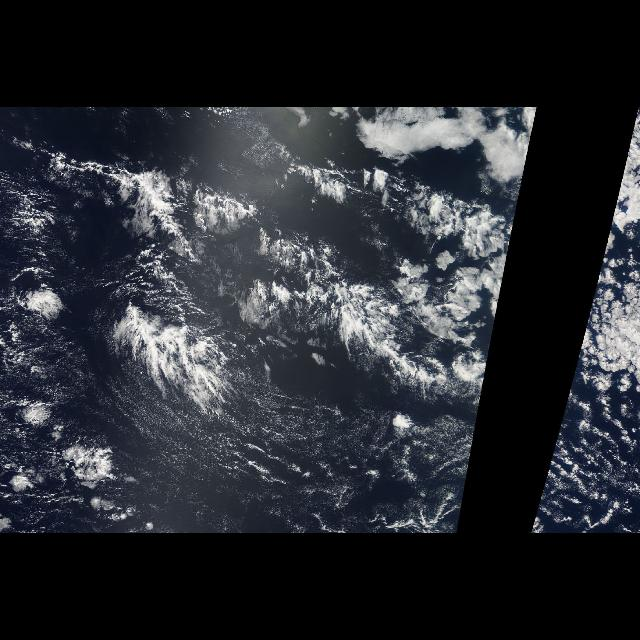Fish: (76, 150, 432, 418)
Flower: (322, 108, 538, 348), (580, 108, 640, 348)
Gravel: (550, 402, 634, 528)
Sugar: (4, 129, 222, 523), (247, 374, 486, 528), (532, 374, 636, 528)
